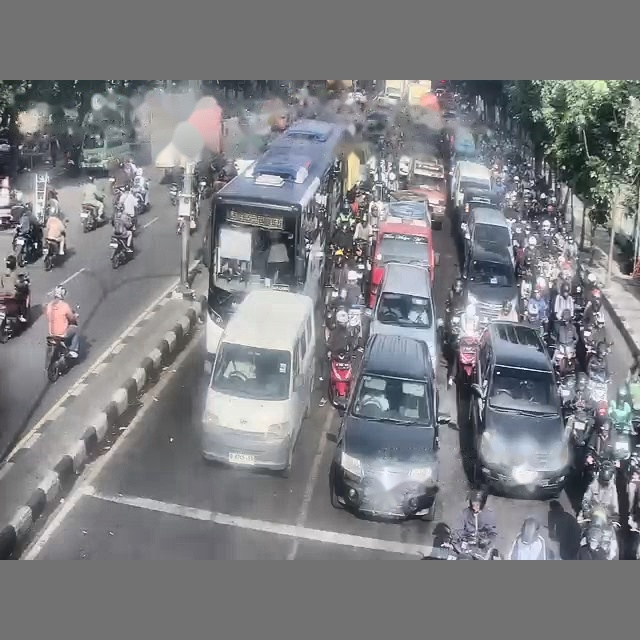Bis: (204, 120, 353, 361)
Mobil: (329, 335, 445, 519), (469, 321, 570, 496), (366, 263, 437, 368), (368, 216, 438, 307), (463, 246, 518, 324)
Motor: (0, 274, 30, 343), (328, 349, 352, 408), (45, 335, 73, 382), (12, 230, 42, 267), (109, 234, 133, 269), (80, 204, 105, 232), (43, 239, 63, 270)
